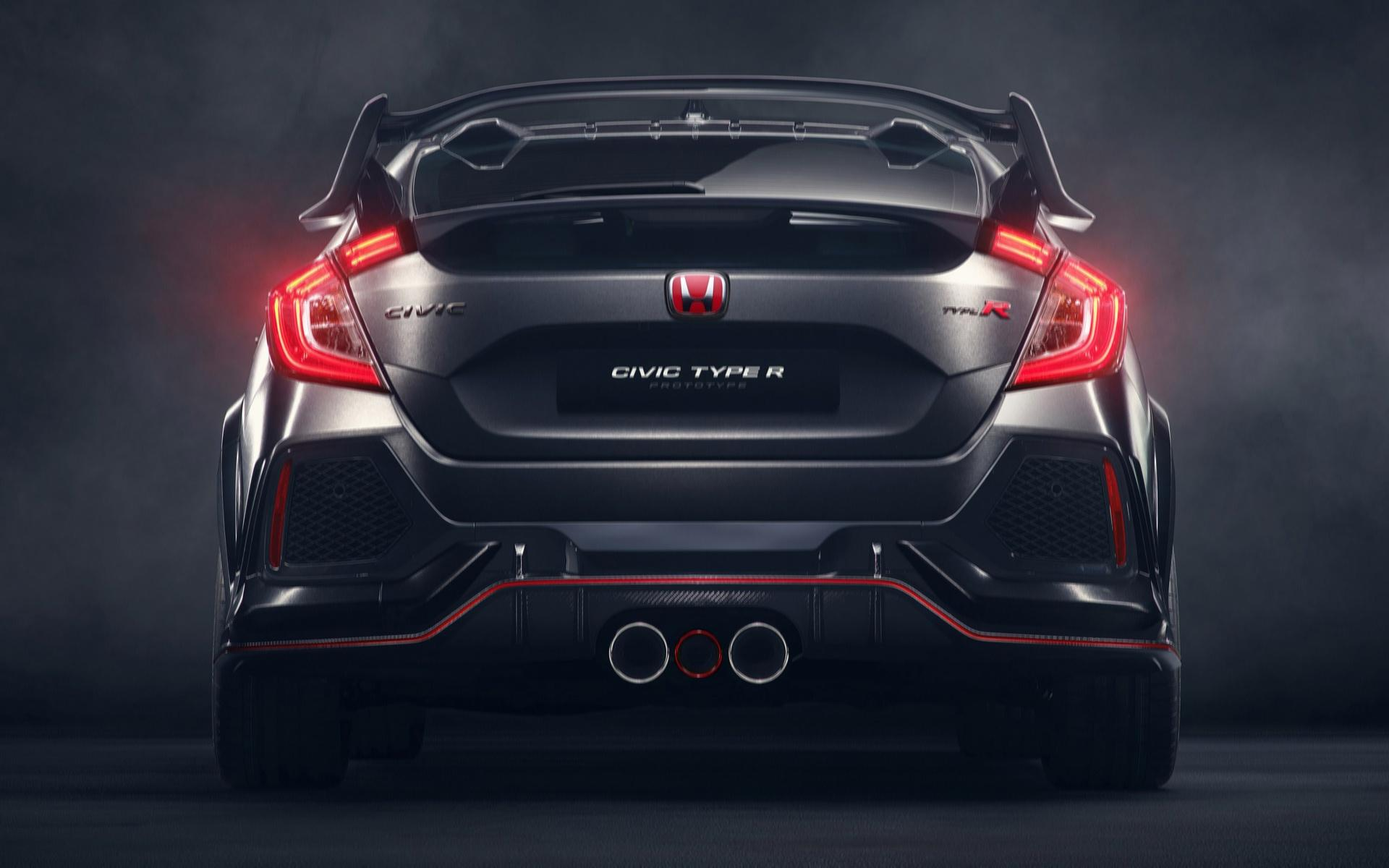Car boot: (319, 179, 1075, 476)
Rear bumper: (203, 393, 1189, 715)
Rear light - -L-: (256, 208, 437, 406)
Rear light - -R-: (974, 198, 1143, 399)
